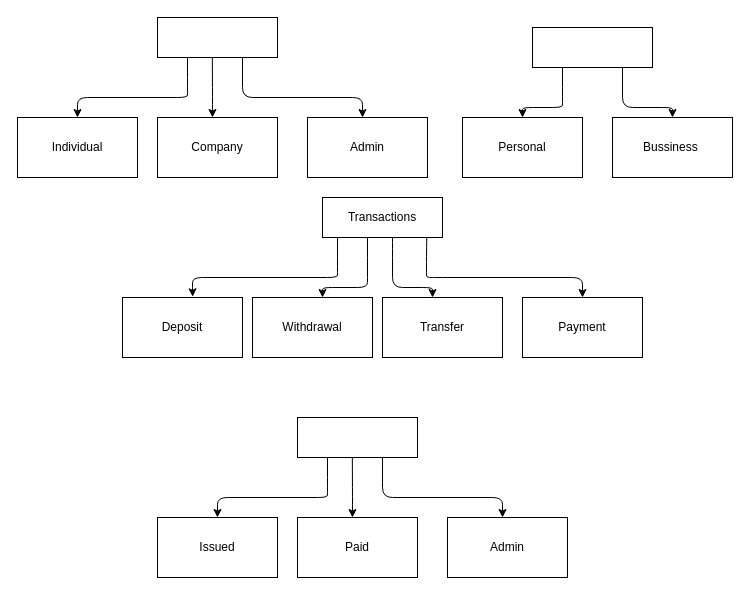
The diagram is 750 pixels wide and 595 high, and some of its shapes have lost their labels. Each missing label, with the centre of its shape:
"Account" goes at [592,47].
"Bill" goes at [357,437].
"USER" goes at [217,37].
